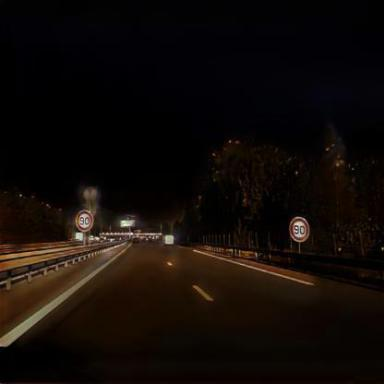Speed_limit_90: (290, 218, 309, 241), (77, 211, 93, 232)
